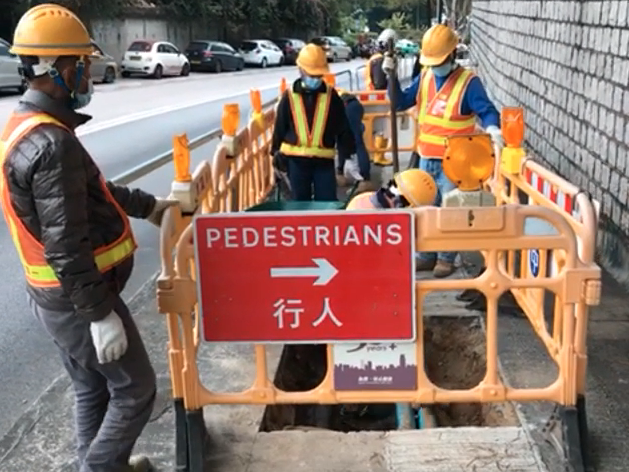Hard Hat: (12, 6, 96, 108), (418, 25, 458, 78), (390, 170, 438, 207), (293, 45, 329, 90)
Person: (4, 5, 160, 470), (417, 25, 489, 205), (273, 44, 343, 201)
Vest: (4, 70, 137, 289), (415, 65, 477, 159), (279, 76, 338, 166)
